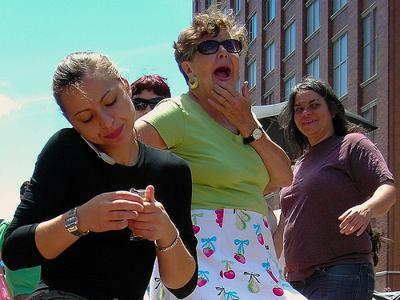person: (5, 52, 199, 299)
